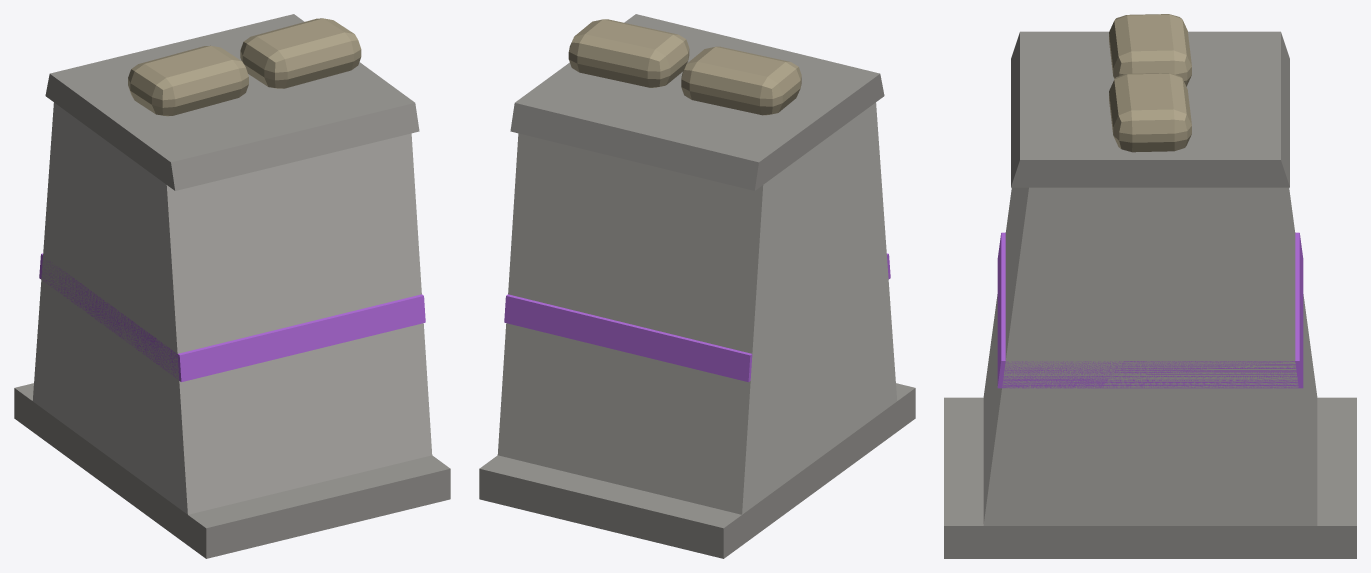
The model's file is wall_link_purple.glb.
3 renders of one model, left to right at view 1: azimuth 30°, elevation 25°; view 2: azimuth 150°, elevation 25°; view 3: azimuth 270°, elevation 25°, orthographic. The views are drawn at different scales.
Visible parts, largest first — view 1: Body; view 2: Body; view 3: Body.
Boxes of the visible parts, x1,y1,x2,y2 form: Body: (14,14,450,558); Body: (479,14,915,558); Body: (944,14,1356,558).
Size of the model in its own units: 1 by 1.6 by 1.36.
1 material, 1 textured.
